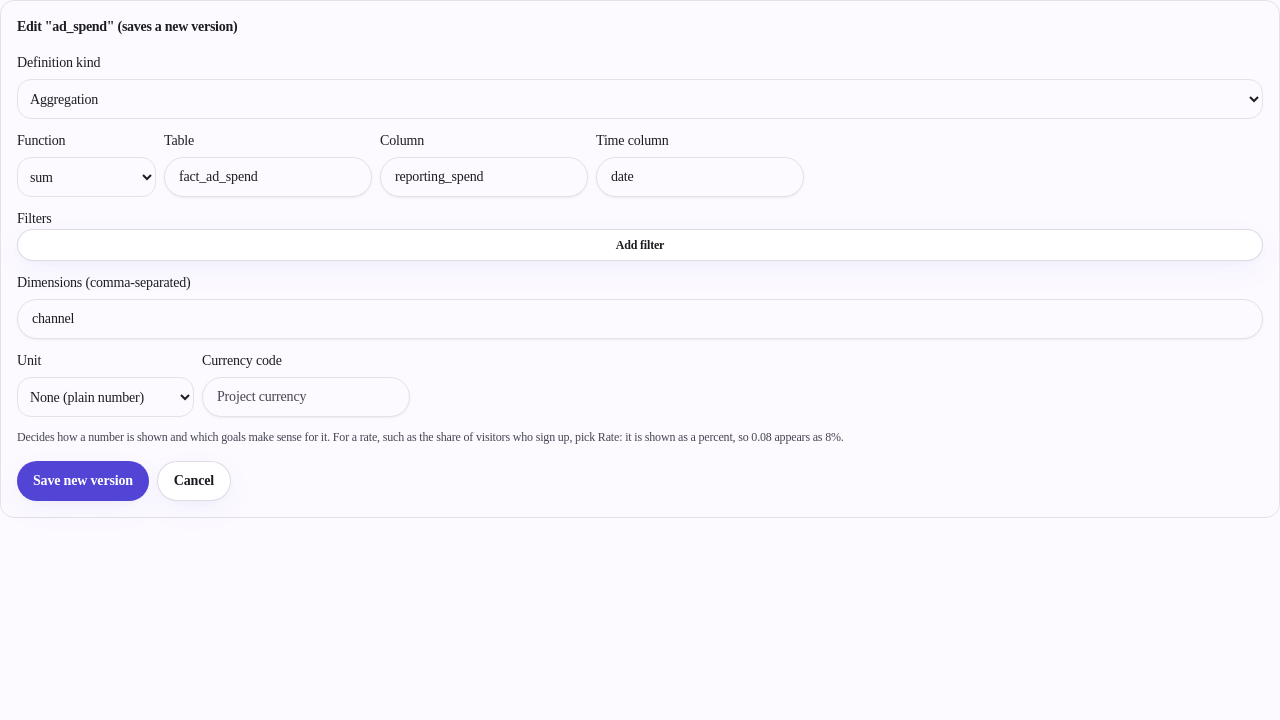
EvolveMetricDefForm › shows the invalid-definition reasons returned by the API
Step 1. Click the button "Save new version" → x=83, y=481, box [17,461,149,501]
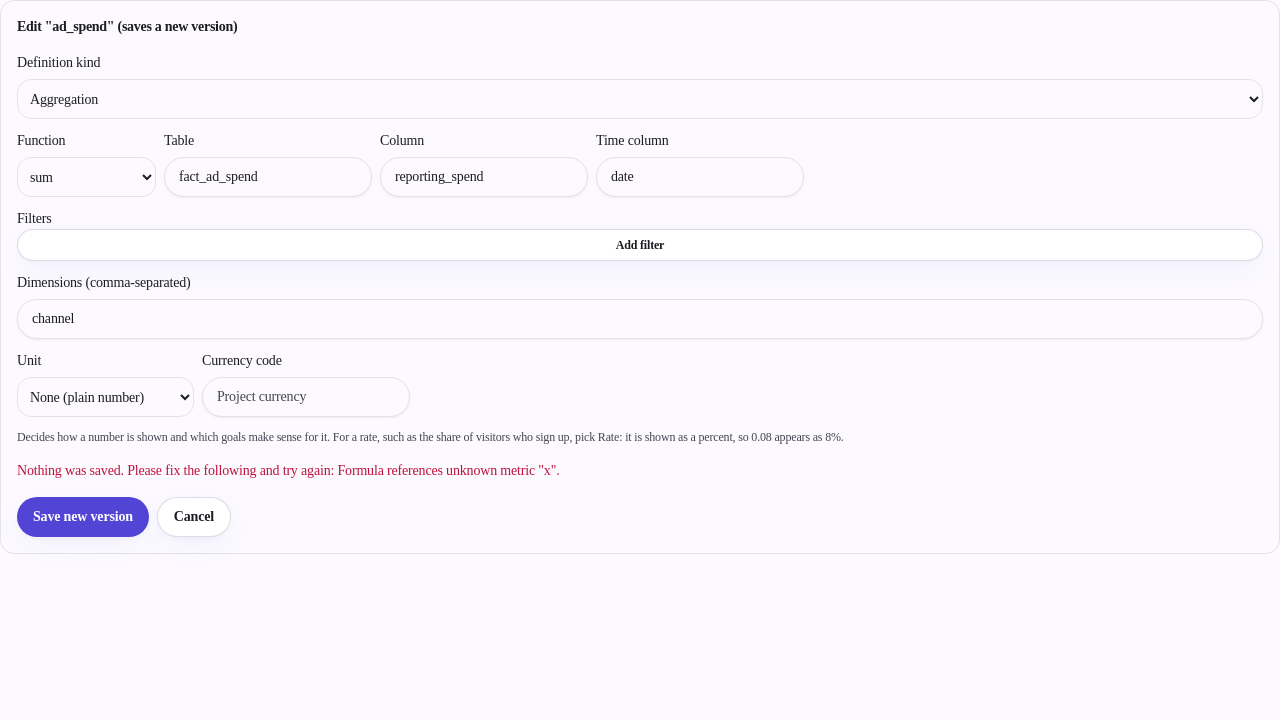
Expected: the message shows "Nothing was saved. Please fix the following and try again: Formula references unknown metric \"x\".", [17,463,560,478]
